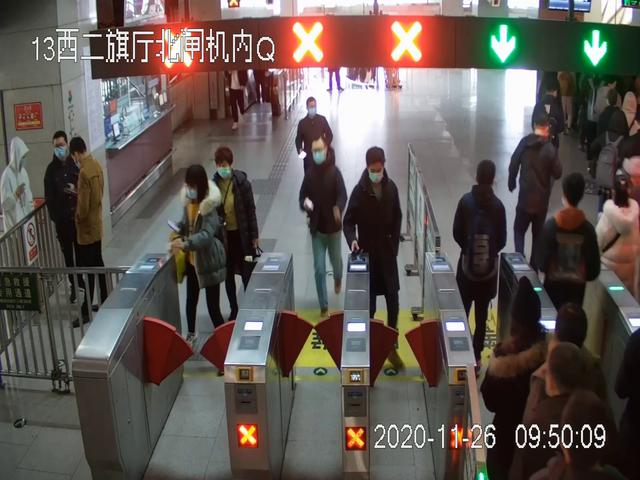person: (481, 277, 560, 480), (343, 147, 404, 370), (452, 160, 508, 368), (169, 165, 227, 348), (536, 175, 601, 330), (299, 136, 347, 320), (210, 146, 260, 320), (509, 116, 563, 268), (46, 131, 88, 303), (70, 137, 104, 326), (1, 136, 35, 314), (594, 178, 640, 299), (294, 96, 333, 202), (595, 107, 631, 204), (532, 82, 563, 164), (225, 68, 253, 130)
